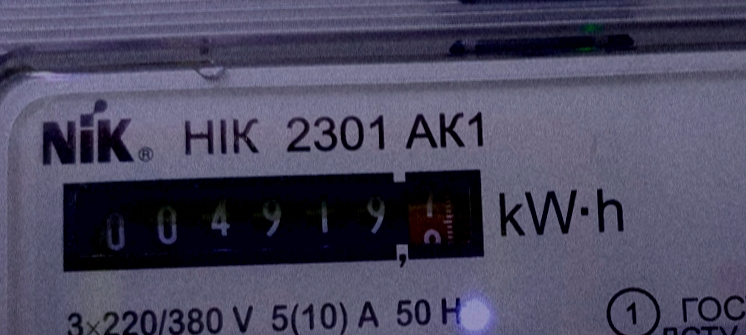0: (152, 201, 180, 247), (102, 207, 127, 252)
1: (315, 190, 331, 236)
4: (205, 194, 231, 238)
7: (415, 179, 440, 219)
9: (362, 190, 387, 237), (259, 195, 283, 239)
screen: (48, 154, 501, 290)
